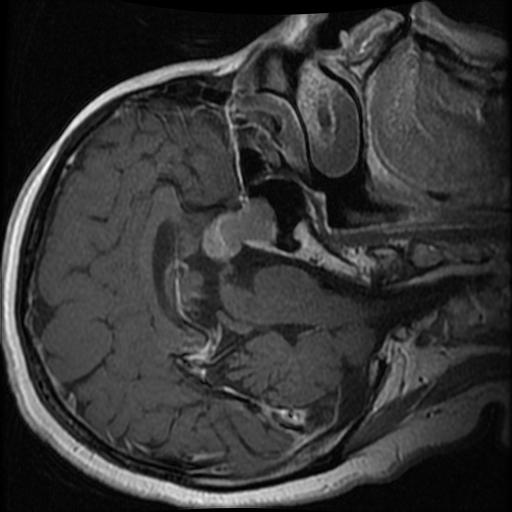pituitary tumour: (202, 198, 277, 262)
